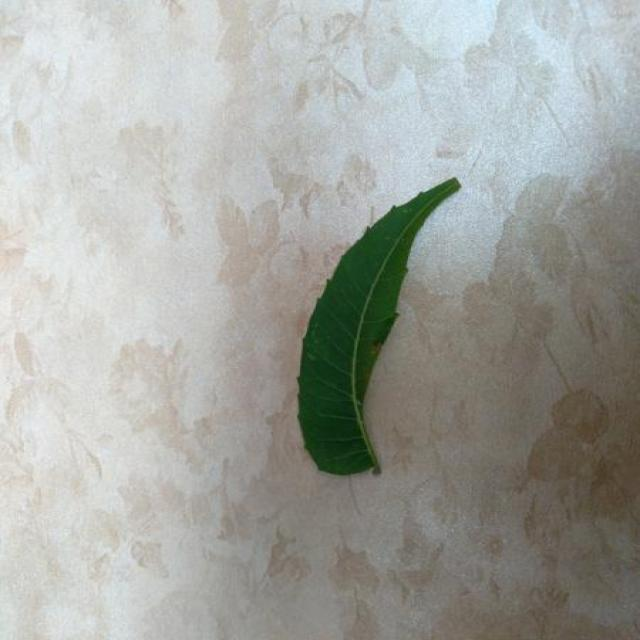neem: (298, 179, 458, 474)
